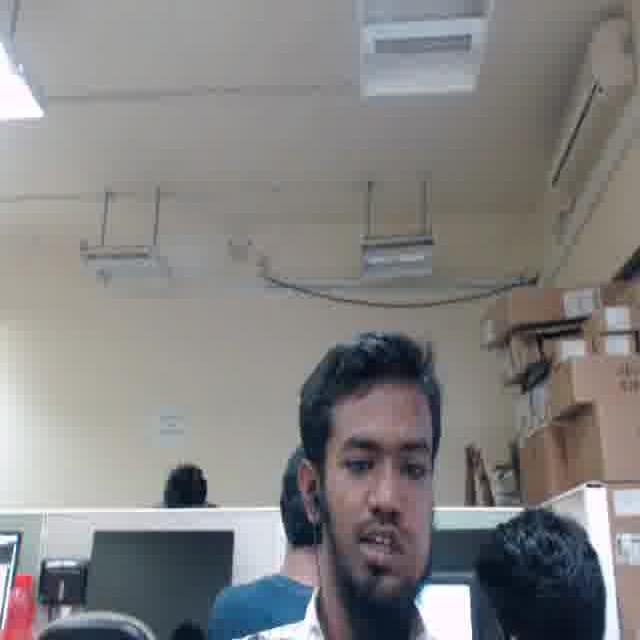Engaged: (324, 400, 438, 592)
